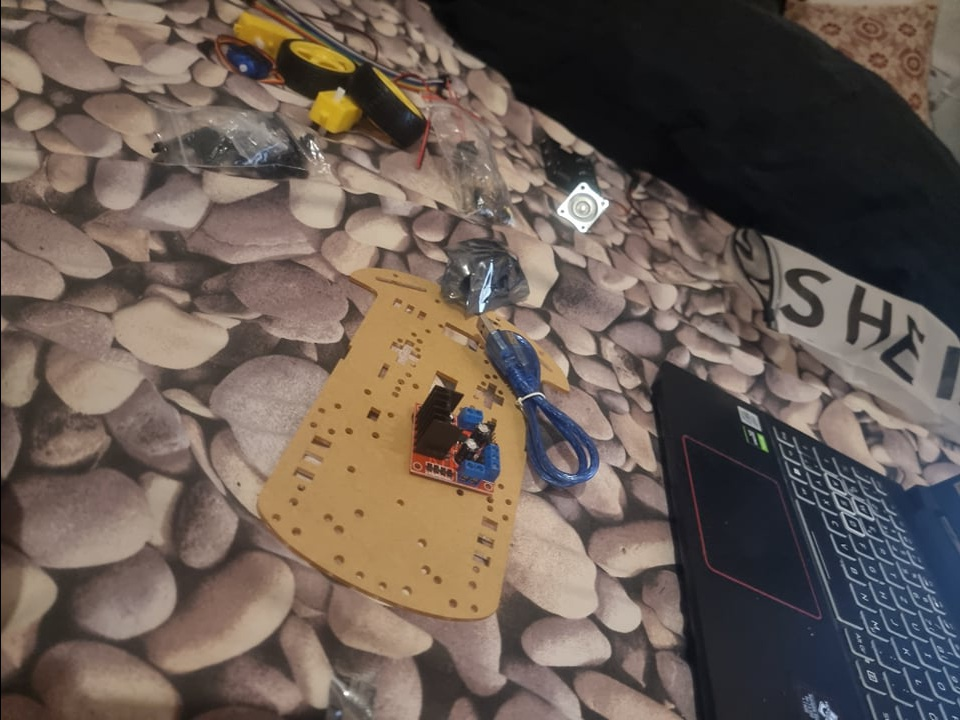BATTERY BOX: (535, 132, 599, 187)
MOTOR: (403, 382, 499, 499)
